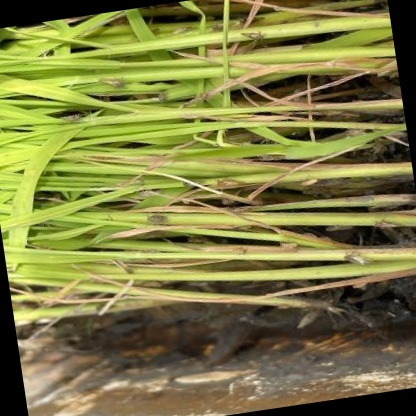Brown_hopper: (76, 69, 131, 102)
